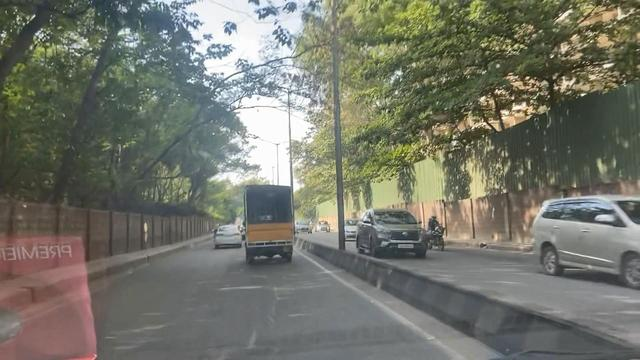HMV: (239, 180, 297, 261)
